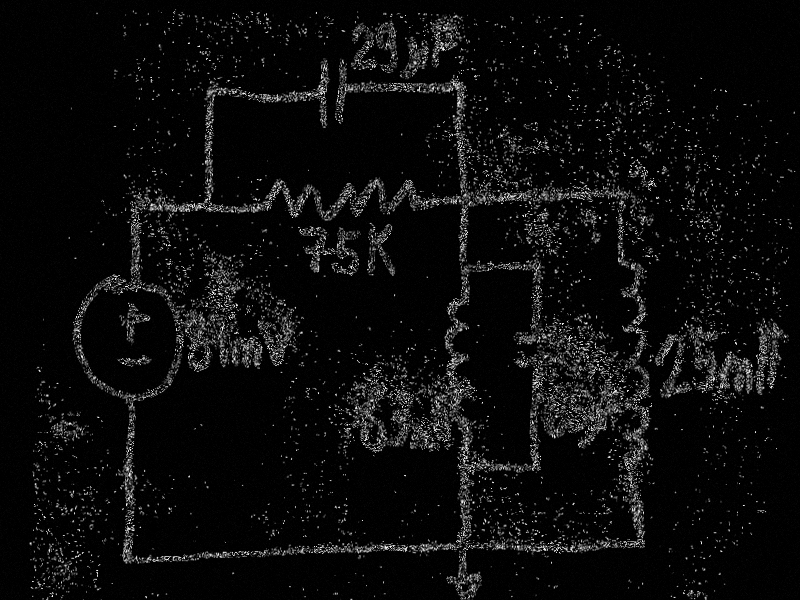2: (653, 330, 694, 403), (346, 22, 380, 74)
3: (386, 391, 415, 451)
5: (688, 326, 719, 397), (332, 227, 363, 281), (567, 388, 588, 434)
6: (357, 378, 390, 455)
7: (292, 222, 335, 282)
8: (182, 313, 215, 379), (542, 381, 570, 440)
9: (374, 18, 404, 75)
F: (429, 21, 459, 69), (598, 389, 620, 434)
H: (754, 323, 779, 395), (430, 411, 453, 452)
V: (263, 317, 298, 367)
k: (362, 219, 401, 282)
m: (716, 351, 756, 400), (216, 333, 265, 371), (408, 426, 435, 450)
u: (403, 37, 432, 79), (584, 404, 601, 447)
